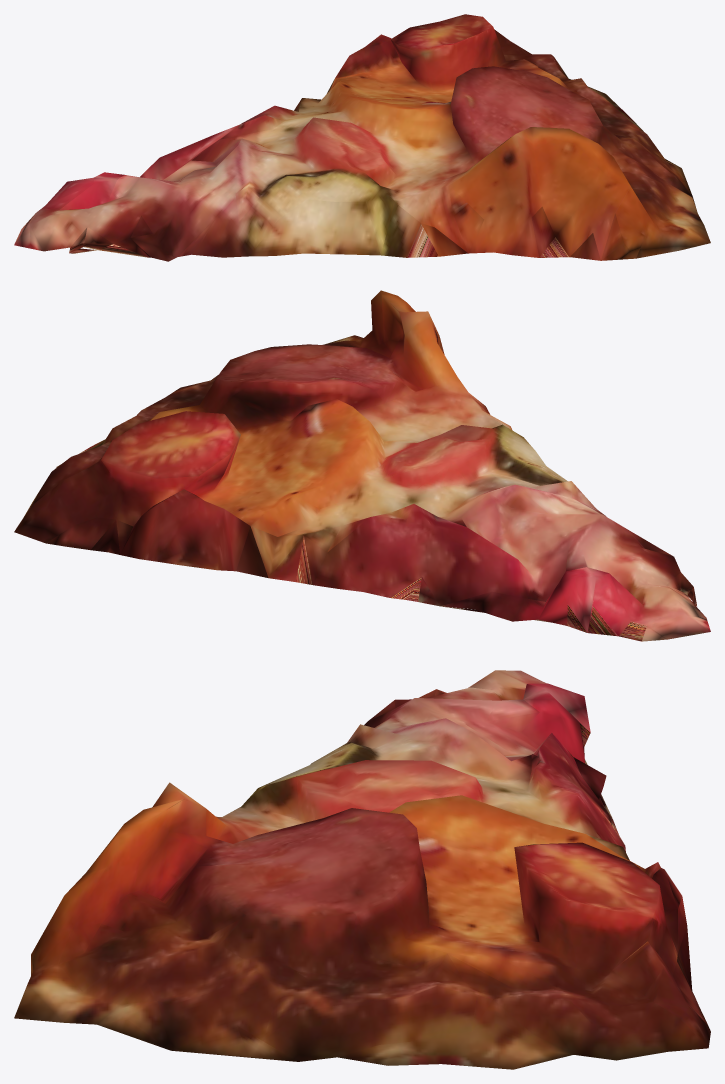
Rendered from pizza.glb.
3 views of the same model, one above another, from view 1: azimuth 30°, elevation 25°; view 2: azimuth 150°, elevation 25°; view 3: azimuth 270°, elevation 25° (orthographic). The views are drawn at different scales.
Parts seen in each view (by area): view 1: pizza; view 2: pizza; view 3: pizza.
Boxes of the visible parts, <box> form: pizza: <box>14,14,710,261</box>; pizza: <box>14,290,710,641</box>; pizza: <box>14,670,710,1069</box>.
Bounding box in the file's own units: 5.5 × 0.9819 × 4.03.
Materials: 1 (1 with a texture image).
